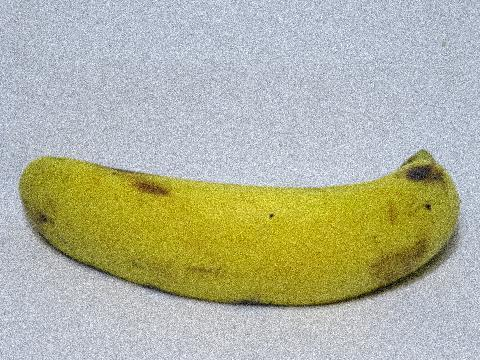freshripe: (14, 130, 479, 321)
